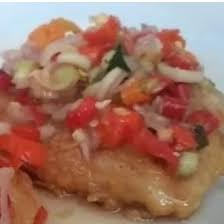ayam_geprek: (8, 23, 212, 209)
